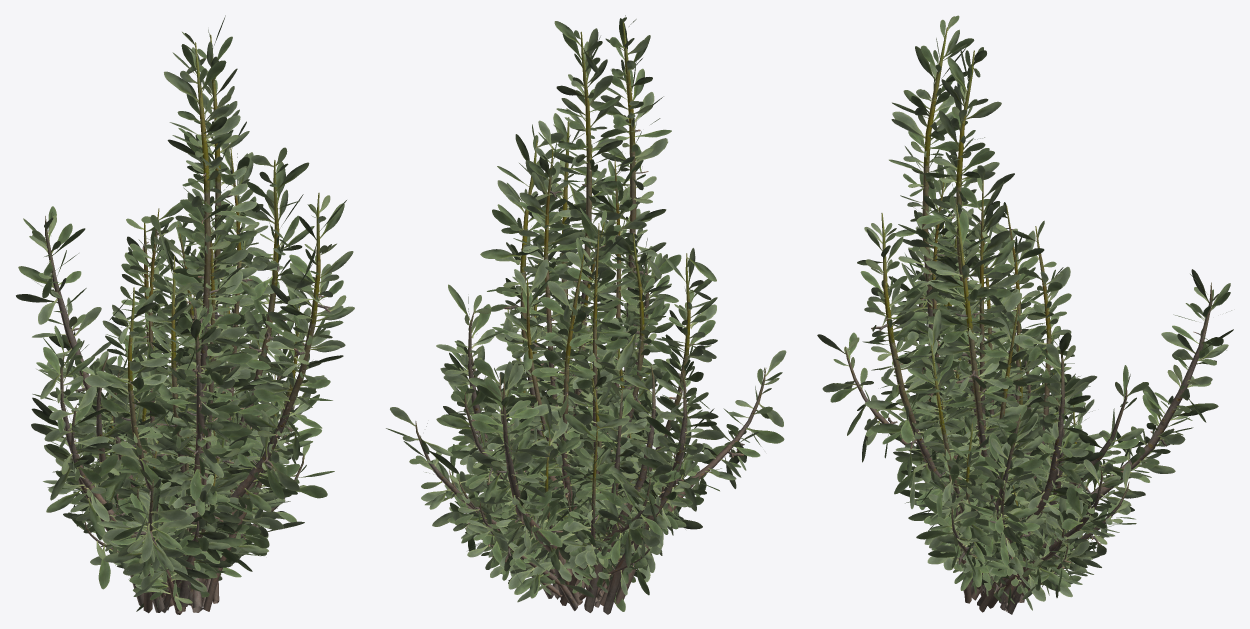
File: othonna.glb
3 renders of one model, left to right at view 1: azimuth 30°, elevation 25°; view 2: azimuth 150°, elevation 25°; view 3: azimuth 270°, elevation 25°, orthographic. The views are drawn at different scales.
Visible parts, largest first — view 1: othonna_0, othonna_1, othonna_2, othonna_4, othonna_3; view 2: othonna_0, othonna_1, othonna_2, othonna_3, othonna_4; view 3: othonna_0, othonna_1, othonna_2, othonna_4, othonna_3.
Boxes of the visible parts, x1,y1,x2,y2 form: othonna_0: [16, 15, 354, 613]; othonna_1: [44, 121, 330, 613]; othonna_2: [97, 220, 334, 611]; othonna_4: [68, 399, 270, 614]; othonna_3: [116, 334, 244, 612]; othonna_0: [386, 15, 786, 614]; othonna_1: [440, 120, 693, 610]; othonna_2: [432, 210, 706, 606]; othonna_3: [504, 315, 649, 597]; othonna_4: [449, 405, 663, 611]; othonna_0: [817, 15, 1233, 614]; othonna_1: [896, 164, 1145, 612]; othonna_2: [895, 214, 1097, 610]; othonna_4: [907, 419, 1097, 605]; othonna_3: [900, 356, 1094, 610].
Size of the model in its own units: 0.7203 by 1.44 by 0.9466.
Materials: 1 (1 with a texture image).
